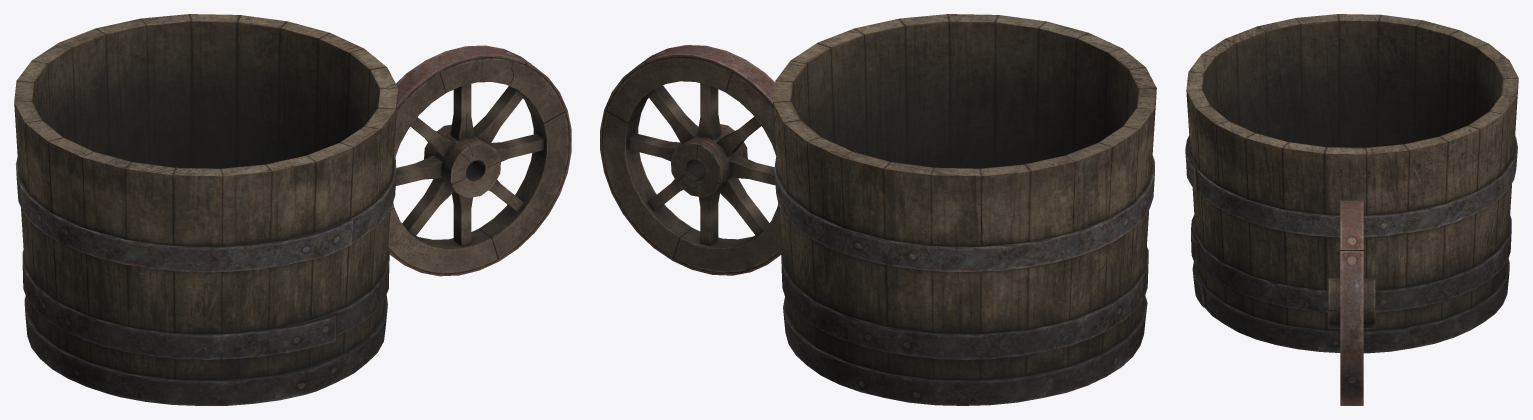
Rendered from wheel.glb.
3 renders of one model, left to right at view 1: azimuth 30°, elevation 25°; view 2: azimuth 150°, elevation 25°; view 3: azimuth 270°, elevation 25°, orthographic. The views are drawn at different scales.
Parts seen in each view (by area): view 1: wheel; view 2: wheel; view 3: wheel.
Part boxes in pixels (bbox=[...]): wheel: bbox=[14, 14, 571, 405]; wheel: bbox=[600, 14, 1156, 405]; wheel: bbox=[1185, 14, 1518, 405].
Bounding box in the file's own units: 1 × 0.4287 × 0.6359.
Materials: 1 (1 with a texture image).
